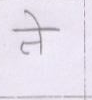e_matra: (24, 10, 45, 27)
